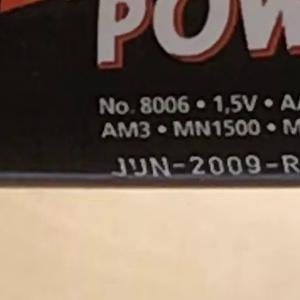1,5V: (205, 86, 266, 120)
